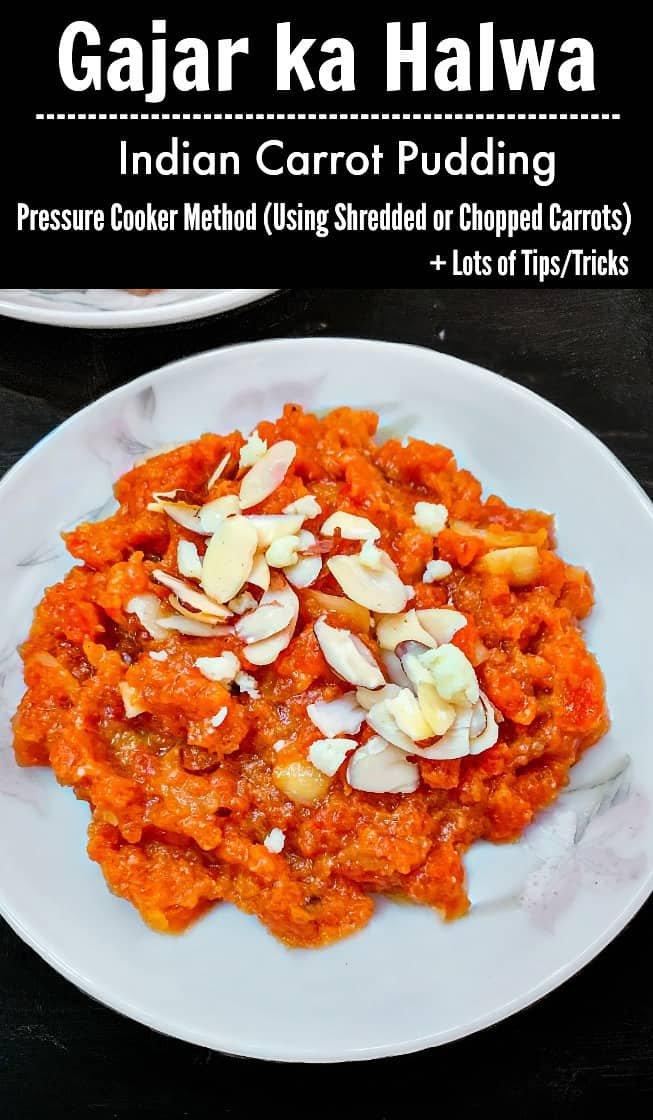Gajar ka halwa: (0, 325, 653, 1052)
